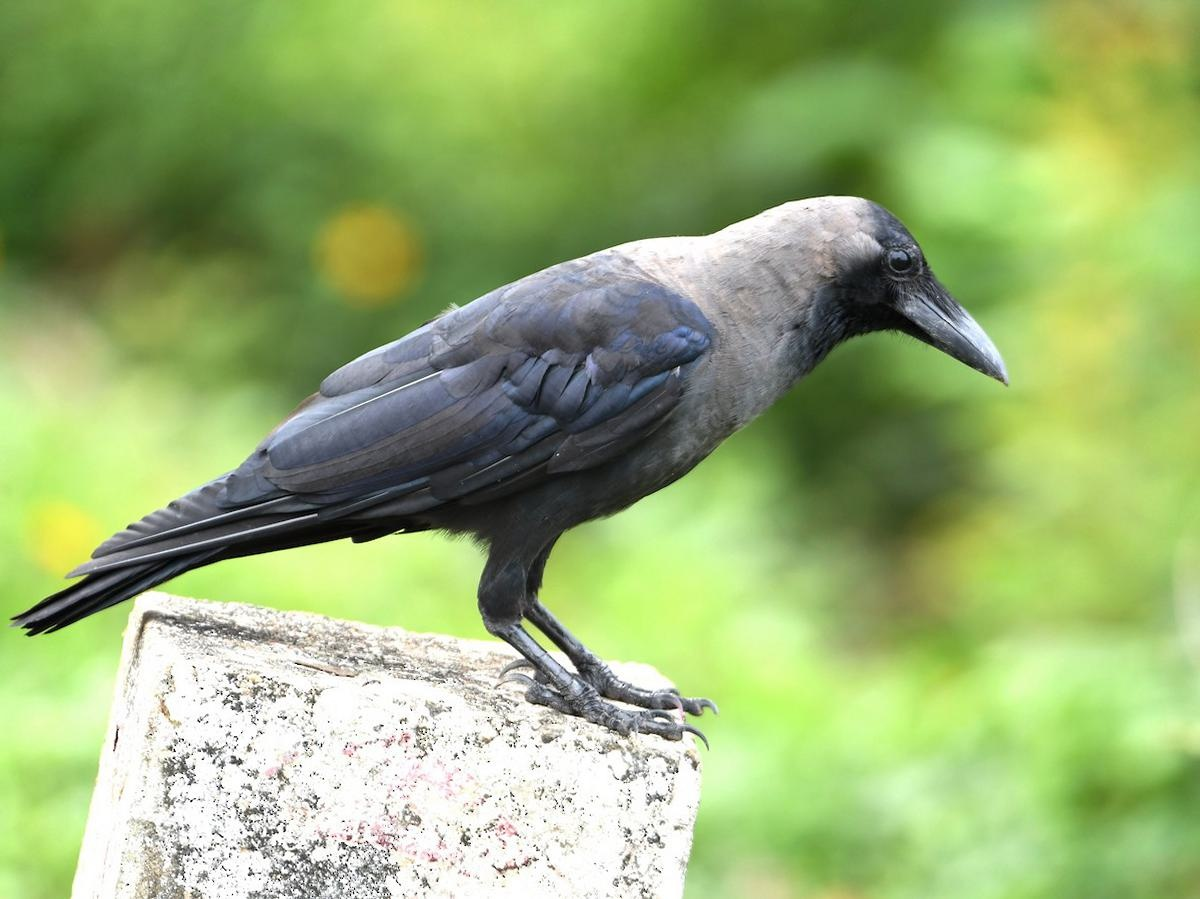crow: (1, 181, 1024, 754)
